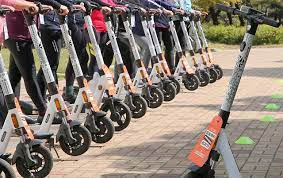kick_handler: (215, 3, 280, 29)
kick_wheel: (13, 142, 53, 178), (57, 123, 91, 157), (105, 100, 130, 132), (88, 112, 113, 144), (146, 84, 163, 109), (128, 95, 146, 118), (184, 74, 198, 90), (164, 82, 175, 101), (198, 69, 209, 87), (210, 69, 216, 83)
